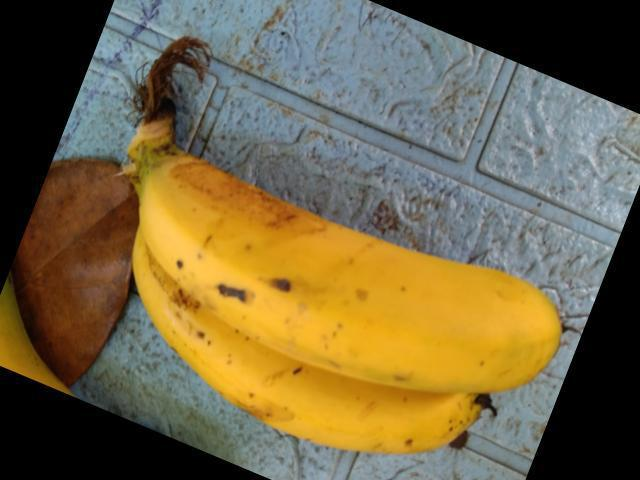ripe: (142, 157, 569, 387), (120, 297, 491, 460)
